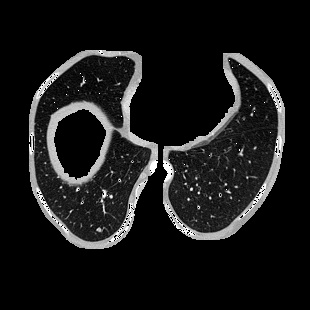PN: (96, 227, 100, 231)
